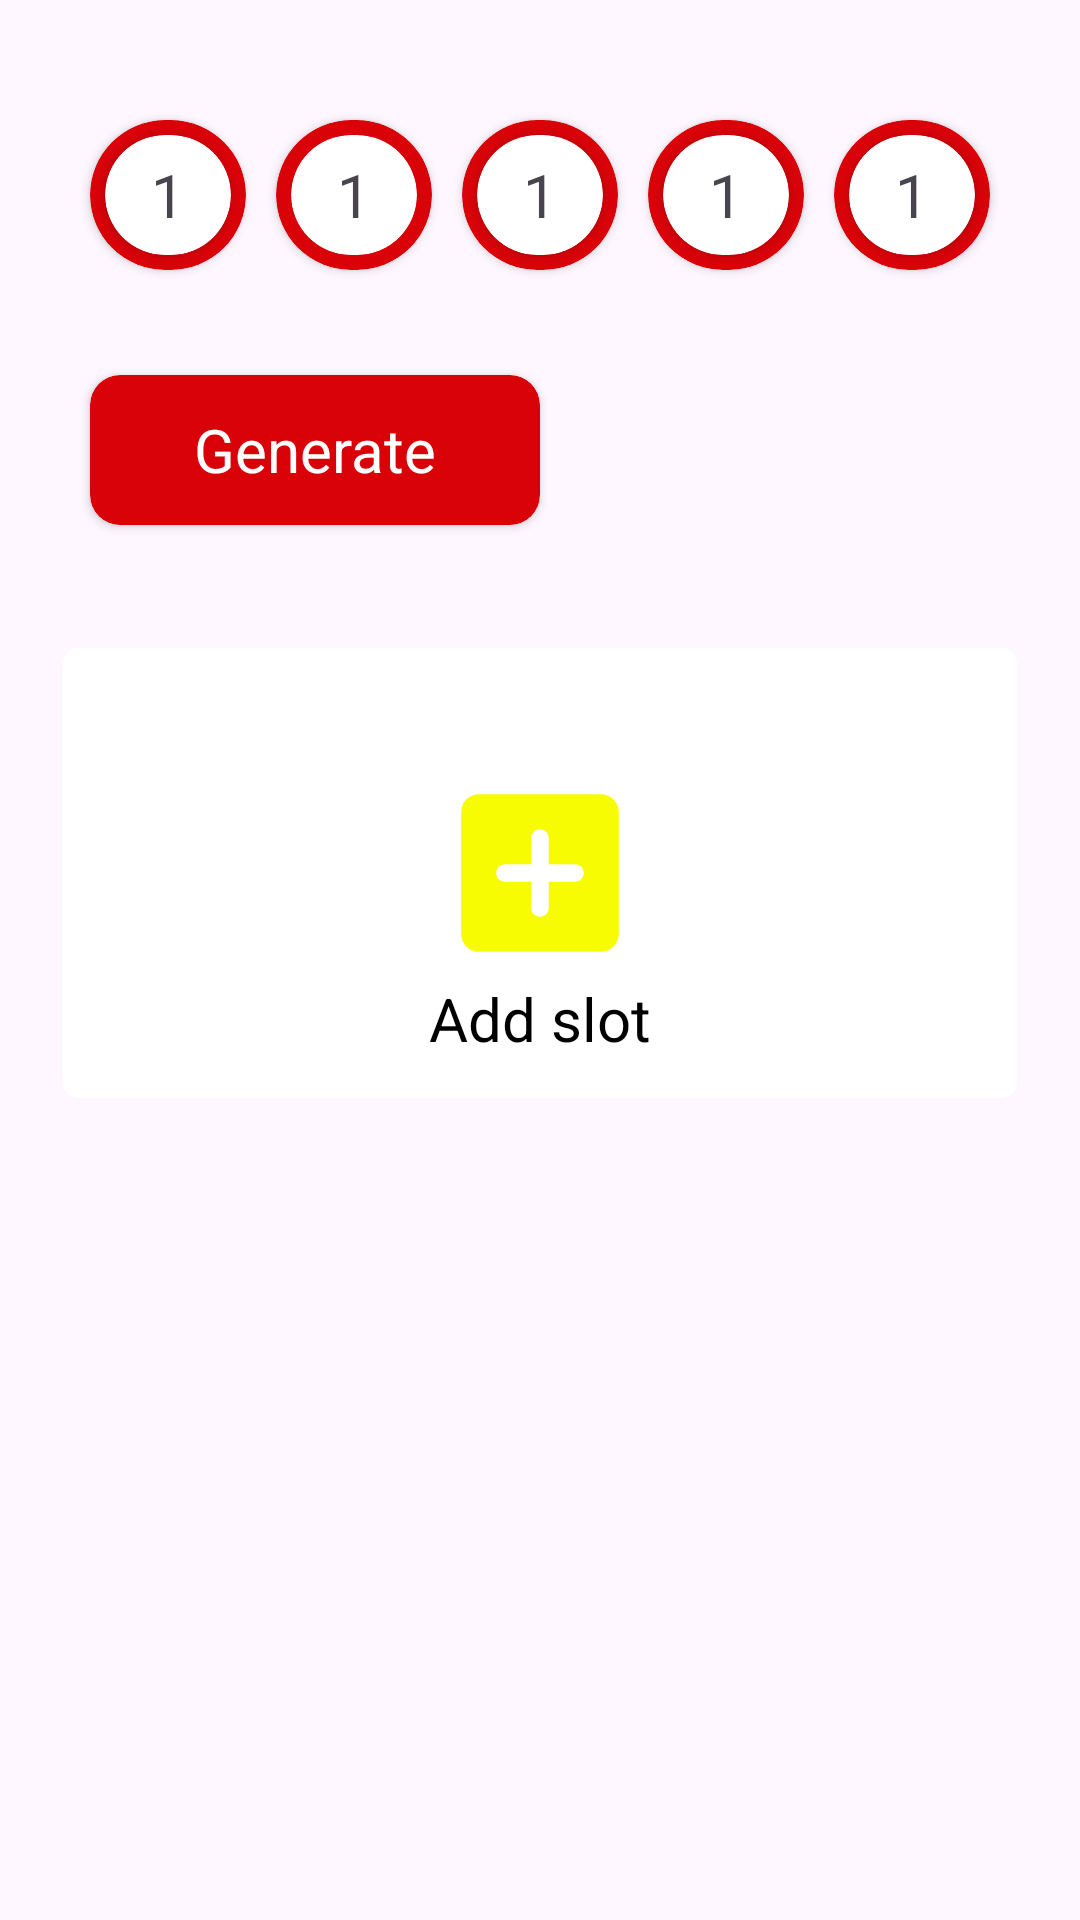

Icons on this 1080*1920 Android screen, each with its box as (x1, y1, x2, y2):
add box: (461, 794, 619, 952)
